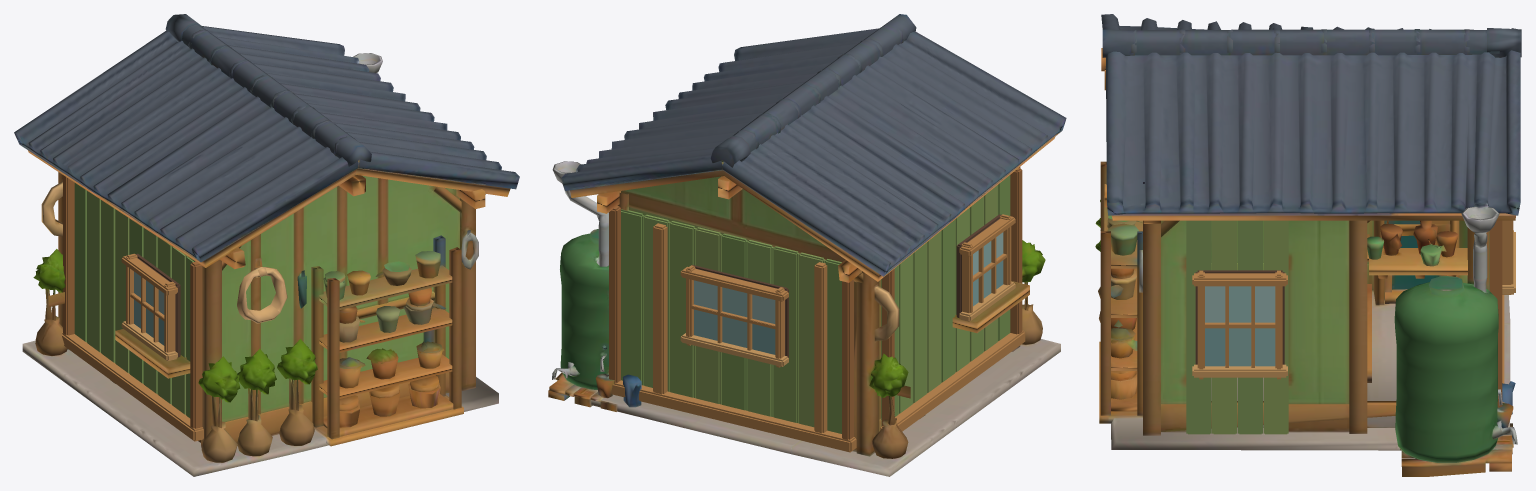
3 renders of one model, left to right at view 1: azimuth 30°, elevation 25°; view 2: azimuth 150°, elevation 25°; view 3: azimuth 270°, elevation 25°, orthographic. The views are drawn at different scales.
Parts seen in each view (by area): view 1: tripo_node_e3964af3-101d-4d6e-8941-bf9a872aa80a, 외형 세부; view 2: tripo_node_e3964af3-101d-4d6e-8941-bf9a872aa80a, 외형 세부; view 3: tripo_node_e3964af3-101d-4d6e-8941-bf9a872aa80a, 외형 세부.
Part boxes in pixels (x1,y1,x2,y2): tripo_node_e3964af3-101d-4d6e-8941-bf9a872aa80a: (14,14,519,476); 외형 세부: (61,175,203,441); tripo_node_e3964af3-101d-4d6e-8941-bf9a872aa80a: (548,14,1066,476); 외형 세부: (609,168,1025,452); tripo_node_e3964af3-101d-4d6e-8941-bf9a872aa80a: (1095,14,1521,476); 외형 세부: (1186,220,1515,434).
Size of the model in its own units: 4.7 by 3.78 by 4.29.
Materials: 2 (1 with a texture image).
